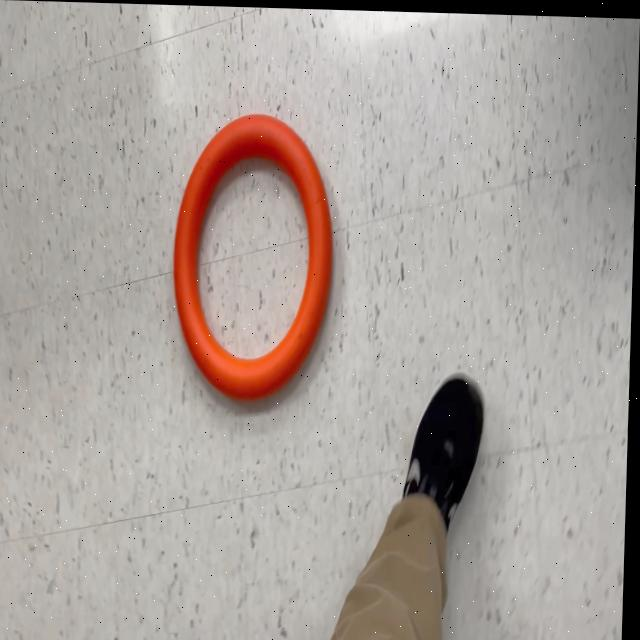note: (170, 108, 339, 406)
